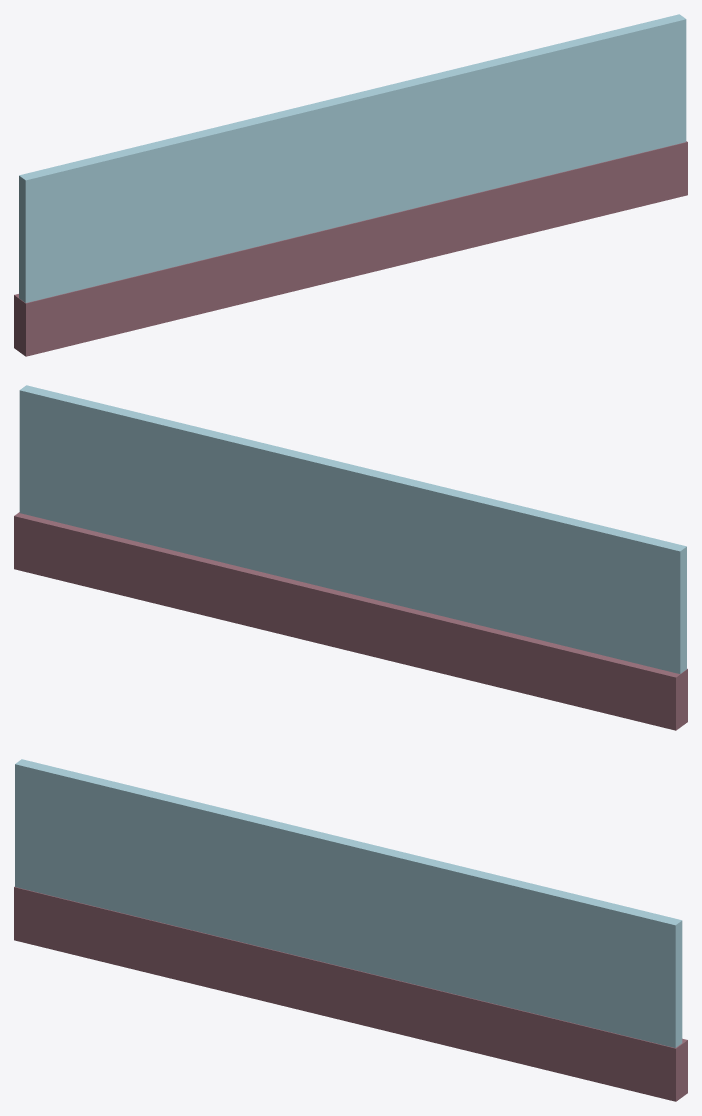
Rendered from Wand.fbx.
3 views of the same model, one above another, from view 1: azimuth 30°, elevation 25°; view 2: azimuth 150°, elevation 25°; view 3: azimuth 330°, elevation 25° (orthographic).
Visible parts, largest first — view 1: Cube, Cube.001; view 2: Cube, Cube.001; view 3: Cube, Cube.001.
Boxes of the visible parts, left/top/right/bottom form: Cube: left=19, top=14, right=686, bottom=302; Cube.001: left=14, top=141, right=687, bottom=356; Cube: left=19, top=385, right=686, bottom=673; Cube.001: left=14, top=512, right=687, bottom=730; Cube: left=15, top=759, right=682, bottom=1047; Cube.001: left=14, top=886, right=687, bottom=1101.
Bounding box in the file's own units: 1612 × 409 × 50.21.
